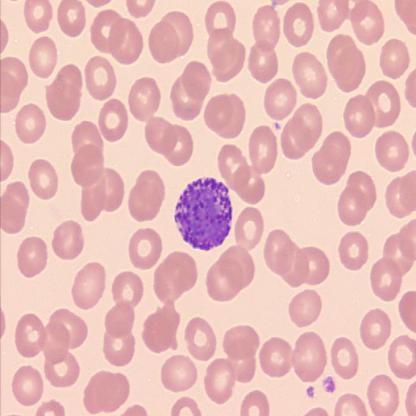Basophil: (172, 176, 234, 252)
